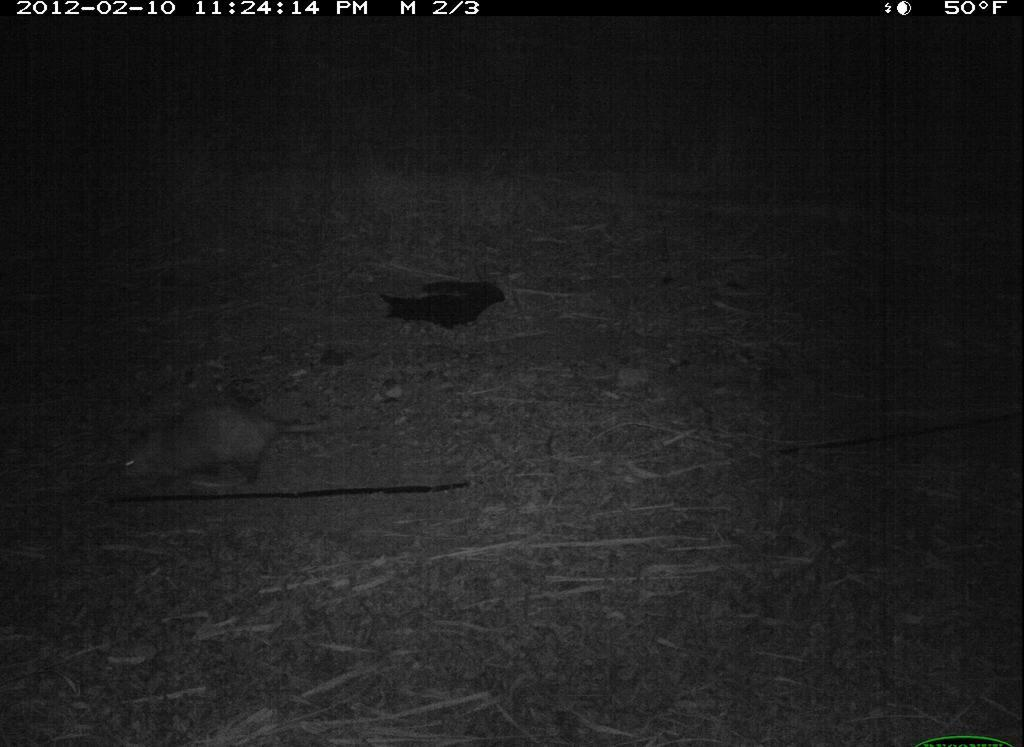opossum: (89, 396, 350, 506)
